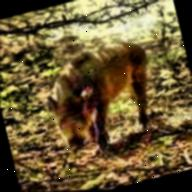boar: (17, 23, 159, 163)
